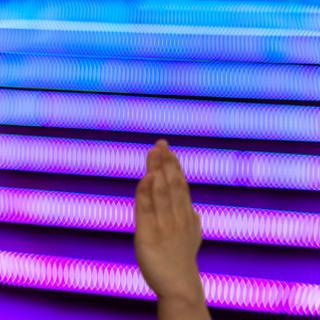RIGHT: (128, 137, 206, 304)
